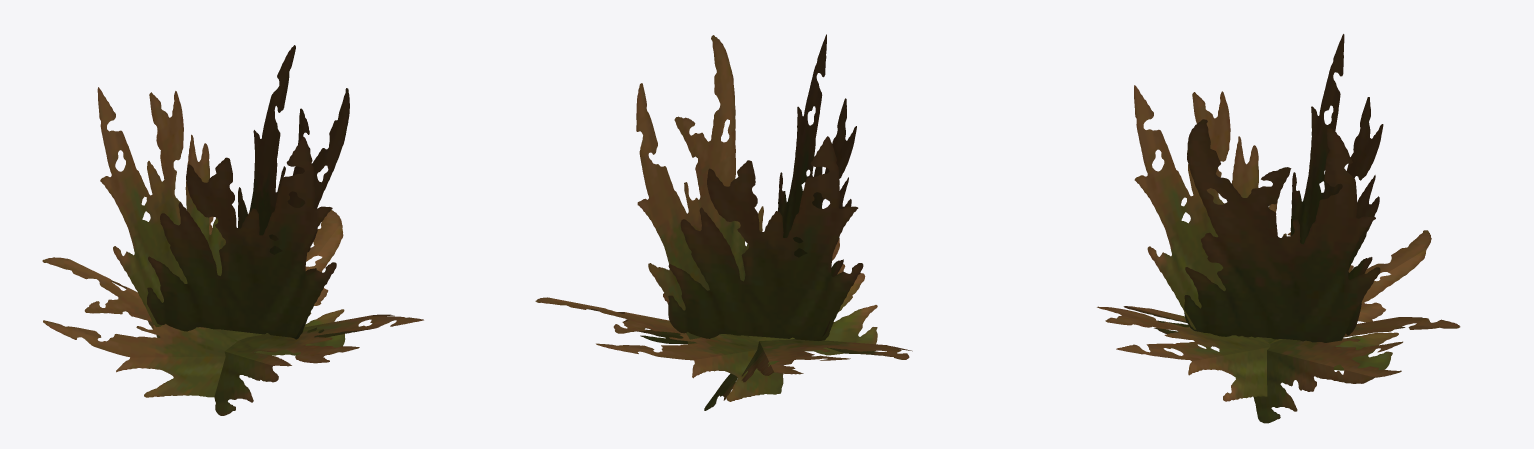
Rendered from grass_dead_03.fbx.
3 views of the same model, side by side, from view 1: azimuth 30°, elevation 25°; view 2: azimuth 150°, elevation 25°; view 3: azimuth 270°, elevation 25° (orthographic). The views are drawn at different scales.
Visible parts, largest first — view 1: obj0.309; view 2: obj0.309; view 3: obj0.309.
Part boxes in pixels (<box>): obj0.309: <box>42,45,423,415</box>; obj0.309: <box>535,34,912,410</box>; obj0.309: <box>1097,34,1460,423</box>.
Size of the model in its own units: 1.52 by 1.06 by 1.56.
